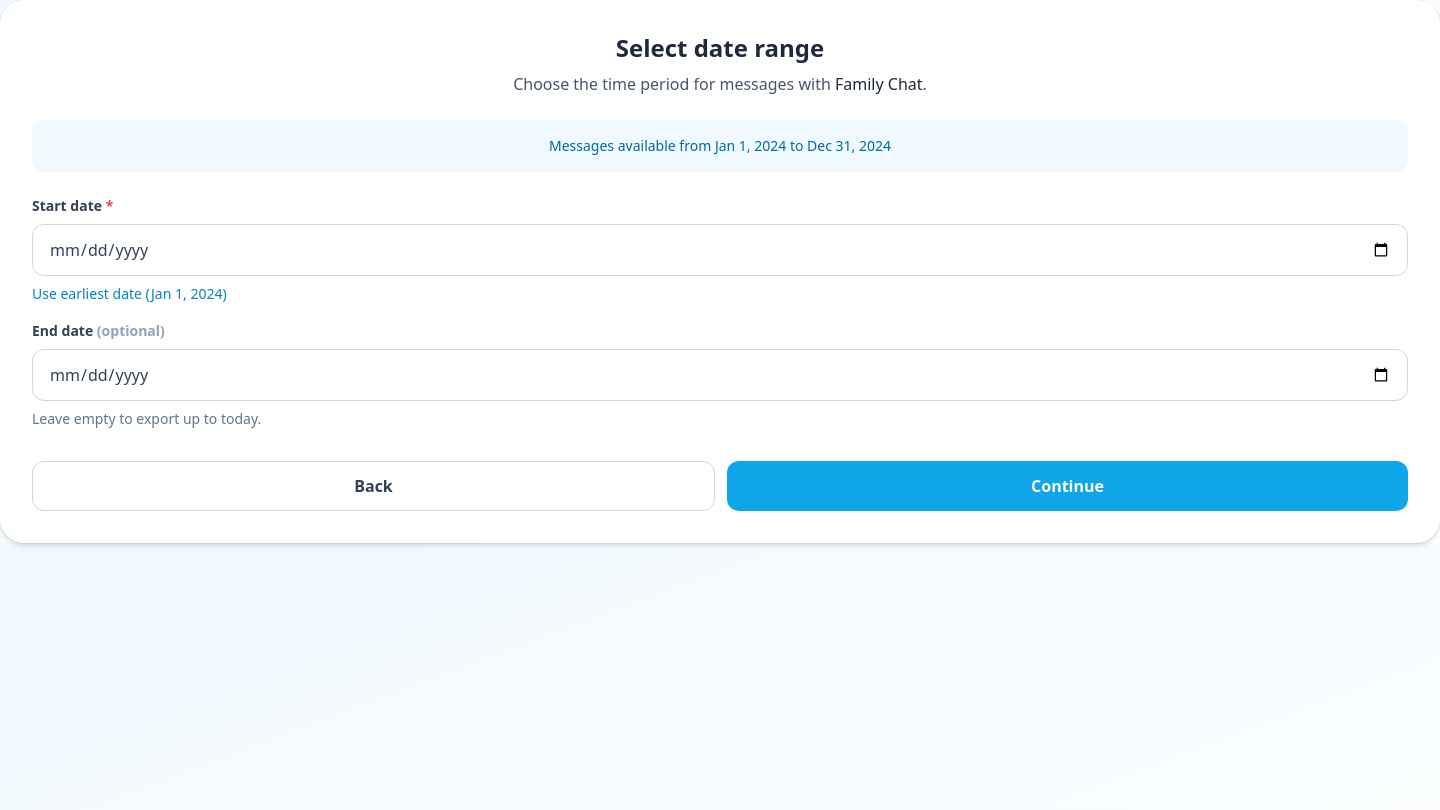
Scenario: Step3DateRange › rejects a date range where the start date is after the end date
This screenshot has width=1440, height=810.
Step 1. Type "2024-12-31" into the date field labelled "Start date *" → (720, 250), box 32,224 -> 1408,276
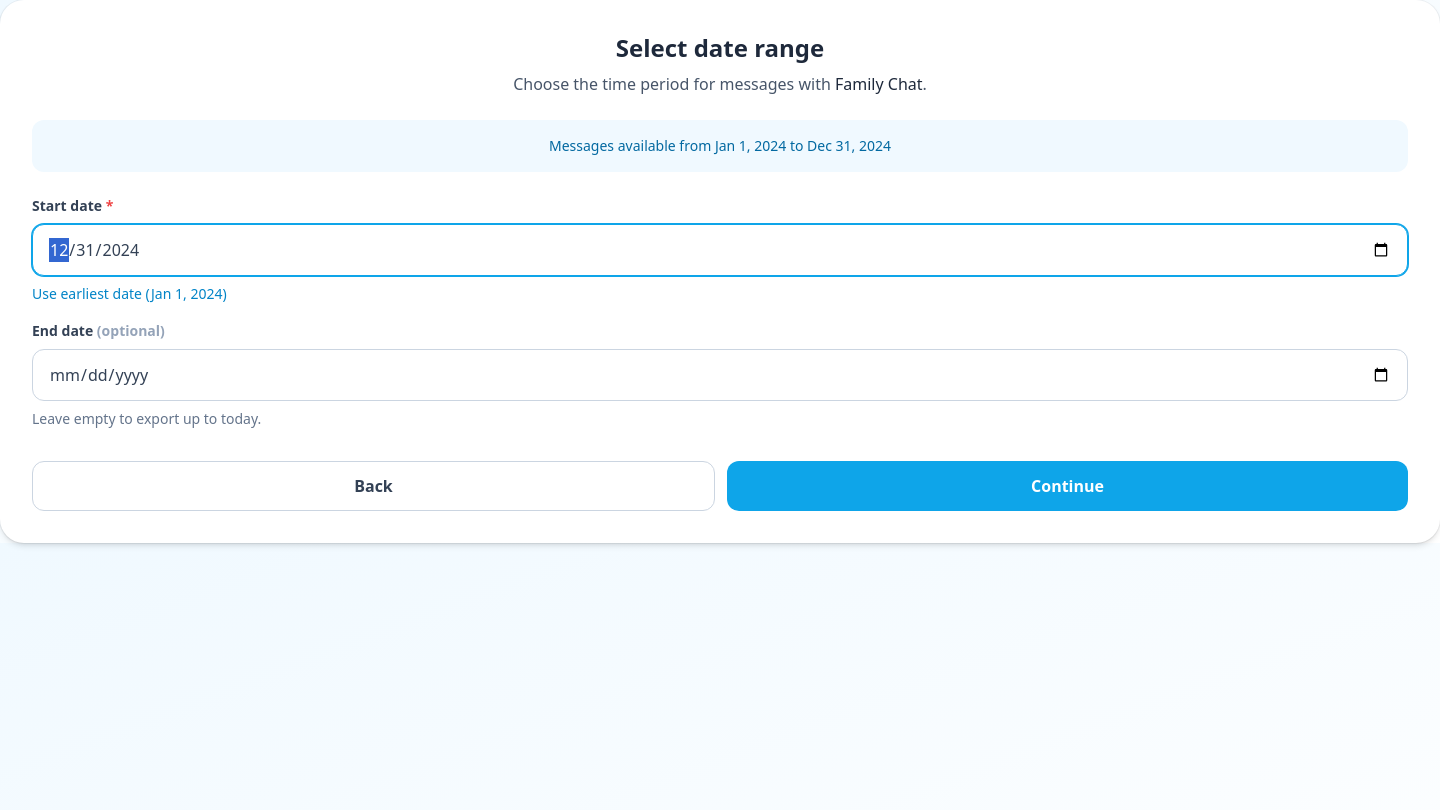
Step 2. Type "2024-01-01" into the date field labelled "End date (optional)" → (720, 375), box 32,349 -> 1408,401
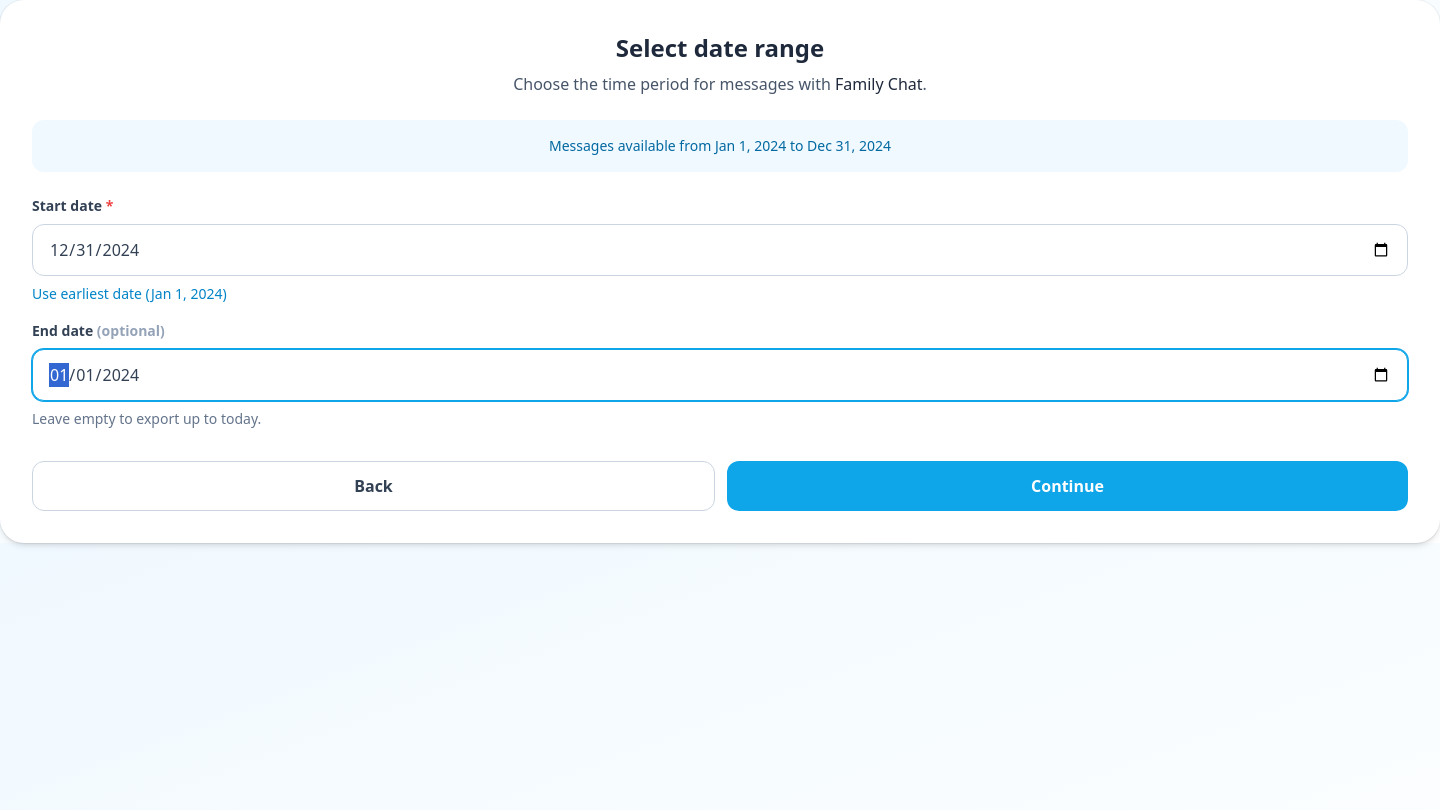
Step 3. Click the button "Continue" → (1068, 486), box 727,461 -> 1408,511
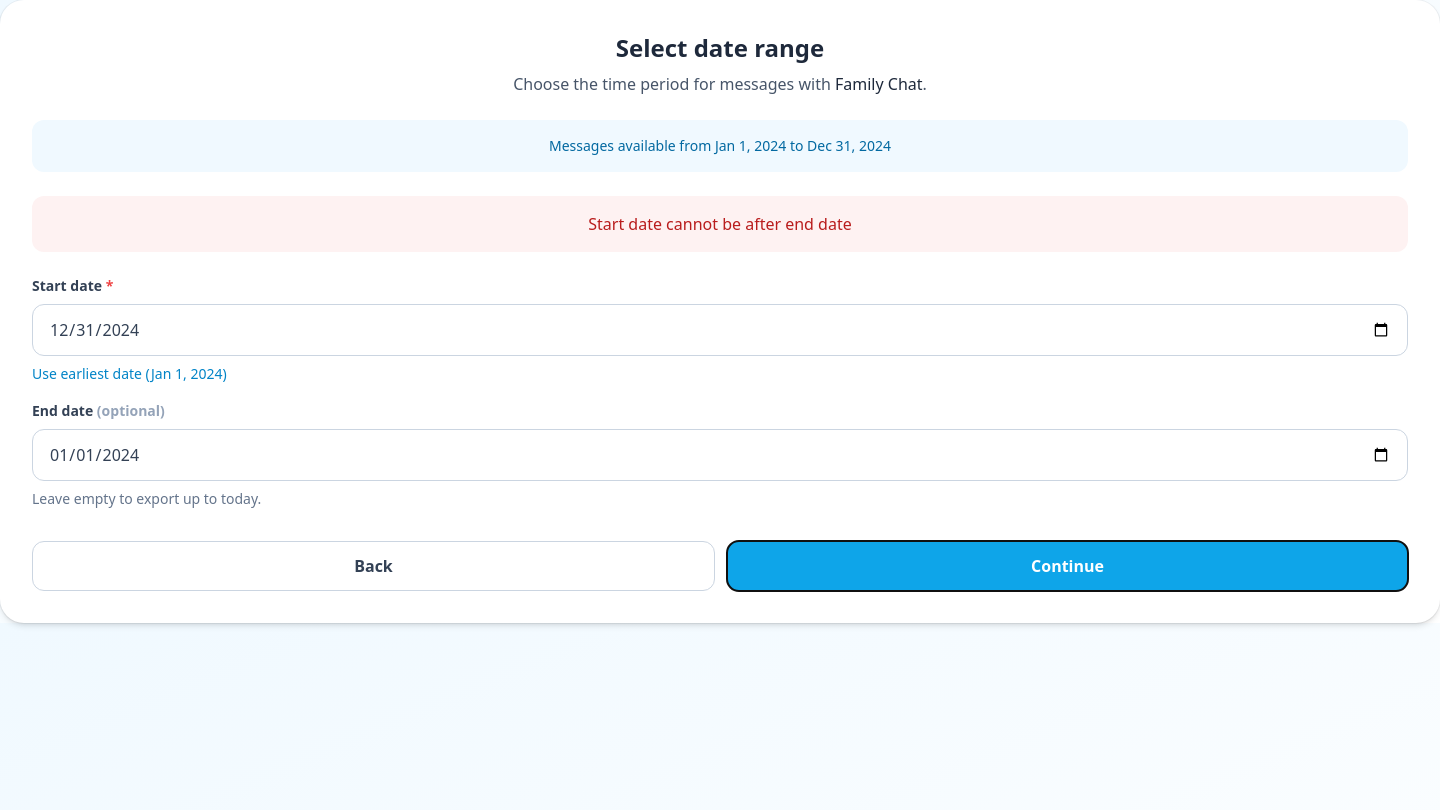
Result: the text "Start date cannot be after end date" is shown at 32,196 -> 1408,252
